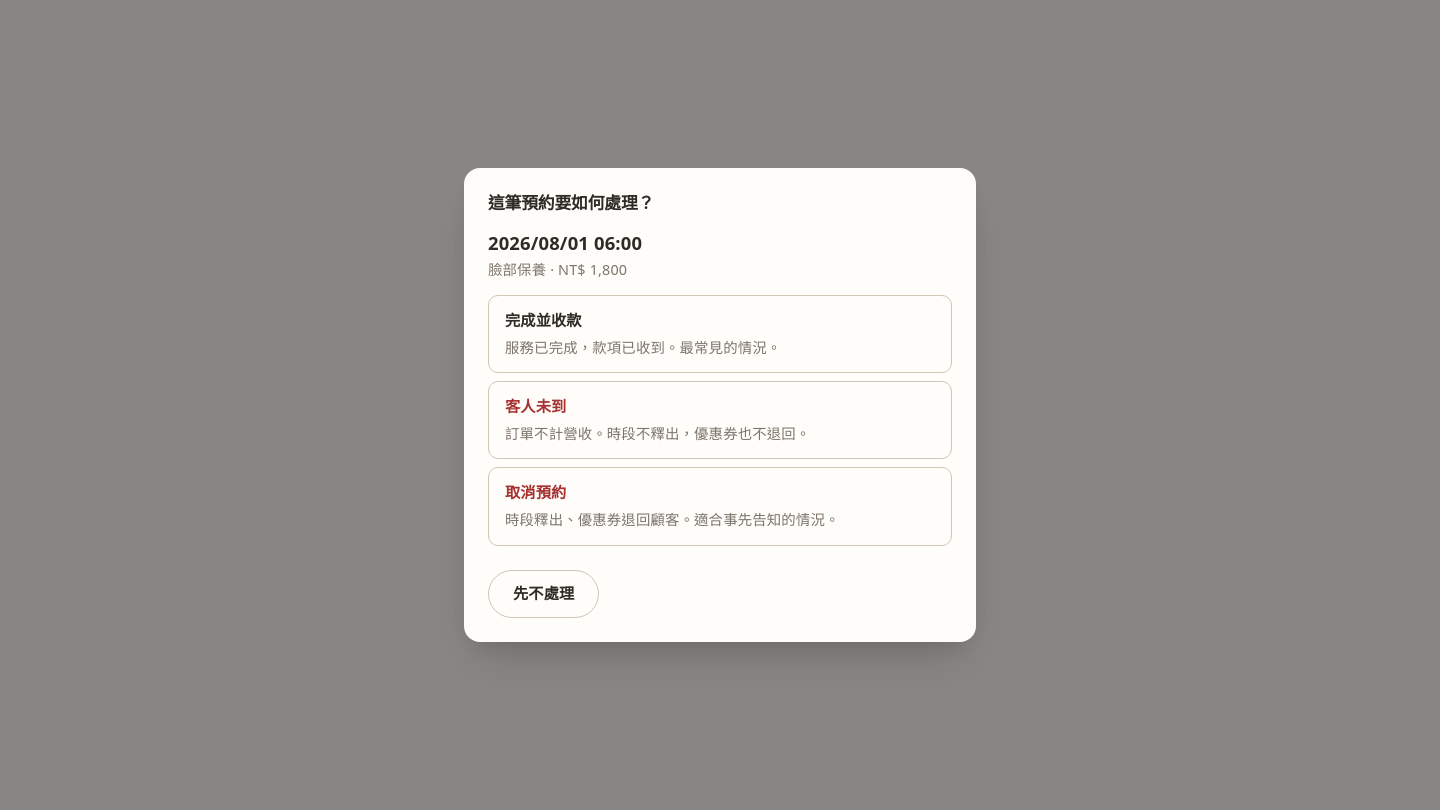
Test case: 後果說明 › 未到明講優惠券不退回
What coordinates should you click on to do the following:
click the button "客人未到 訂單不計營收。時段不釋出，優惠券也不退回。"
I would click on:
 (536, 406)
Its box is [488,381,952,459].
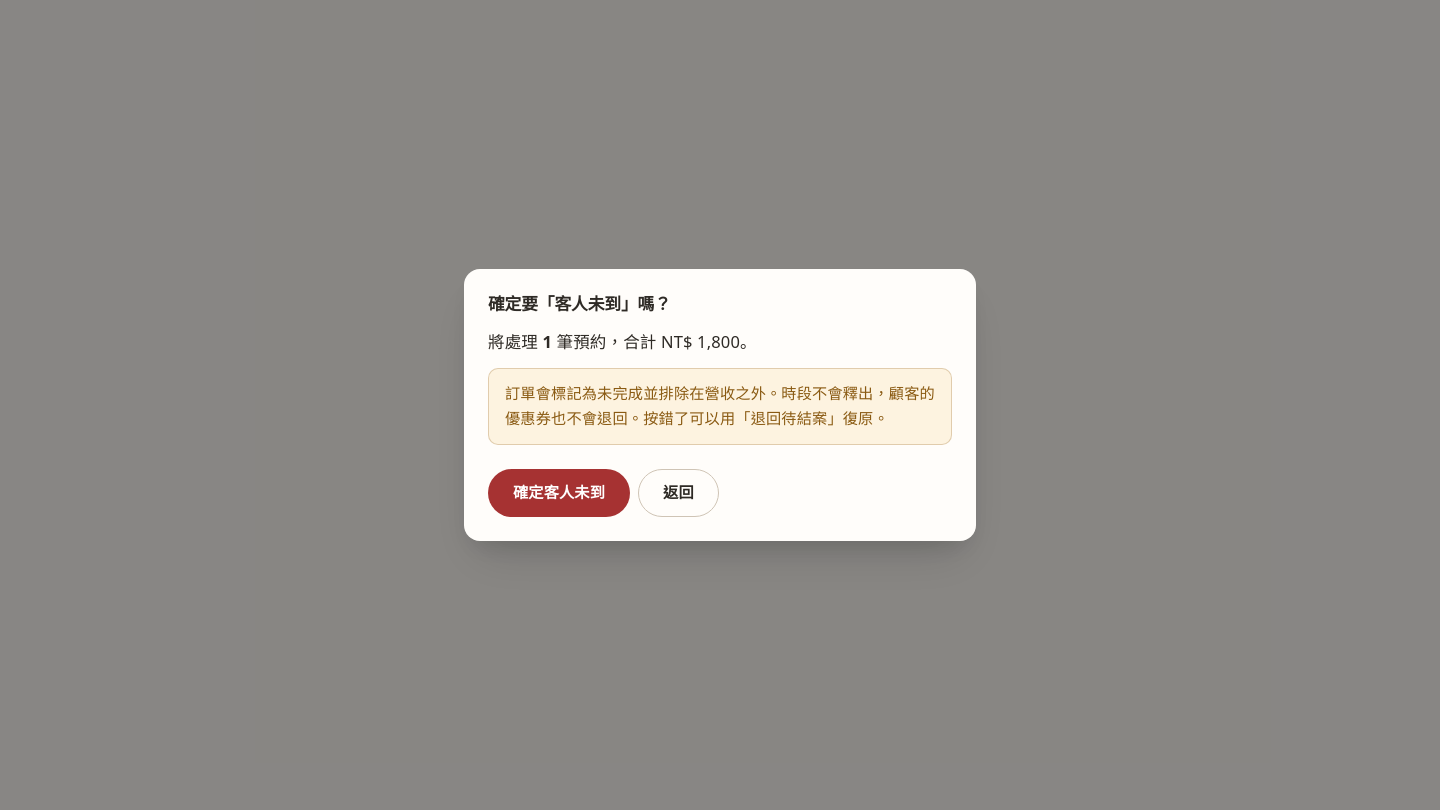
Now the text "訂單會標記為未完成並排除在營收之外。時段不會釋出，顧客的優惠券也不會退回。按錯了可以用「退回待結案」復原。" is shown, box [488,368,952,445]
